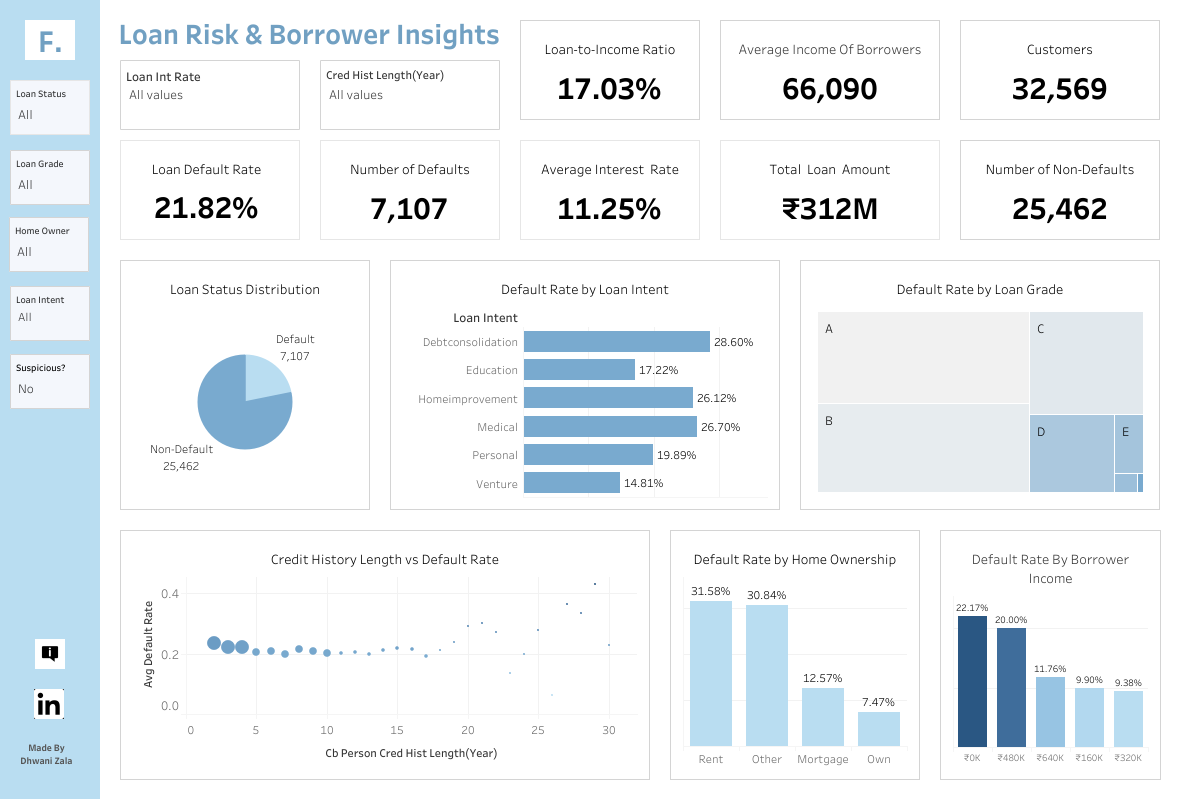

This screenshot's page, from the dashboard's own definition file:
{"tool":"tableau","page":{"name":"Dashboard 1","canvas":[1000,1000],"units":"permille","ordinal":0},"visuals":[{"type":"text","box":[96.7,15,327.5,51.2]},{"type":"worksheet","title":"kpi 8","mark":"Automatic","box":[433.3,25,150,125]},{"type":"worksheet","title":"kpi 7","mark":"Automatic","box":[600,25,183.3,125]},{"type":"worksheet","title":"kpi 6","mark":"Automatic","box":[800,25,166.7,125]},{"type":"text","box":[22.5,27.5,39.2,45]},{"type":"filter","title":"v.barchart1","param":"[federated.1jaehnx16knkhq1a8c6p51dfle09].[none:loan_int_rate:qk]","box":[100,75,150,87.5]},{"type":"filter","title":"Scatter","param":"[federated.1jaehnx16knkhq1a8c6p51dfle09].[none:cb_person_cred_hist_length(year):","box":[266.7,75,150,87.5]},{"type":"filter","title":"Pie Chart","param":"[federated.1jaehnx16knkhq1a8c6p51dfle09].[none:Calculation_840484293418377216:nk","box":[8.3,100,66.7,68.8]},{"type":"worksheet","title":"kpi 1","mark":"Automatic","box":[100,175,150,125]},{"type":"worksheet","title":"kpi 2","mark":"Automatic","box":[266.7,175,150,125]},{"type":"worksheet","title":"kpi 3","mark":"Automatic","box":[433.3,175,150,125]},{"type":"worksheet","title":"kpi 4","mark":"Automatic","box":[600,175,183.3,125]},{"type":"worksheet","title":"kpi 5","mark":"Automatic","box":[800,175,166.7,125]},{"type":"filter","title":"treemap","param":"[federated.1jaehnx16knkhq1a8c6p51dfle09].[none:loan_grade:nk]","box":[8.3,187.5,66.7,68.8]},{"type":"filter","title":"v.barchart","param":"[federated.1jaehnx16knkhq1a8c6p51dfle09].[none:person_home_ownership:nk]","box":[7.5,271.2,66.7,68.8]},{"type":"worksheet","title":"Pie Chart","mark":"Pie","box":[100,325,208.3,312.5]},{"type":"worksheet","title":"H. Bar Chart","mark":"Automatic","rows":["loan_intent"],"cols":["Calculation_786159622155628544"],"box":[325,325,325,312.5]},{"type":"worksheet","title":"treemap","mark":"Automatic","box":[666.7,325,300,312.5]},{"type":"filter","title":"H. Bar Chart","param":"[federated.1jaehnx16knkhq1a8c6p51dfle09].[none:loan_intent:nk]","box":[8.3,357.5,66.7,68.8]},{"type":"filter","title":"v.barchart1","param":"[federated.1jaehnx16knkhq1a8c6p51dfle09].[none:is_loan_amount_suspicious:nk]","box":[8.3,442.5,66.7,68.8]},{"type":"worksheet","title":"Scatter","mark":"Circle","cols":["cb_person_cred_hist_length(year)"],"box":[100,662.5,441.7,312.5]},{"type":"worksheet","title":"v.barchart","mark":"Automatic","rows":["Calculation_786159622155628544"],"cols":["person_home_ownership"],"box":[558.3,662.5,208.3,312.5]},{"type":"worksheet","title":"v.barchart1","mark":"Automatic","rows":["Calculation_786159622155628544"],"cols":["Person Income (bin)"],"box":[783.3,662.5,184.2,312.5]},{"type":"image","param":"Image/images (1).png","box":[29.2,797.5,25,41.2]},{"type":"image","param":"Image/download (1).png","box":[29.2,861.2,27.5,37.5]},{"type":"text","box":[7.5,922.5,62.5,38.8]}]}

Visuals, with their boxes on the dashboard's canvas, which has no fixed pixel size, in thousandths of its width and height (x1, y1, x2, y2). These are canvas units, not pixel positions in the 1199x799 screenshot, which may show the page scaled, cropped or inside an application window:
text: {"left": 97, "top": 15, "right": 424, "bottom": 66}
"kpi 8" worksheet: {"left": 433, "top": 25, "right": 583, "bottom": 150}
"kpi 7" worksheet: {"left": 600, "top": 25, "right": 783, "bottom": 150}
"kpi 6" worksheet: {"left": 800, "top": 25, "right": 967, "bottom": 150}
text: {"left": 22, "top": 28, "right": 62, "bottom": 72}
"v.barchart1" filter: {"left": 100, "top": 75, "right": 250, "bottom": 162}
"Scatter" filter: {"left": 267, "top": 75, "right": 417, "bottom": 162}
"Pie Chart" filter: {"left": 8, "top": 100, "right": 75, "bottom": 169}
"kpi 1" worksheet: {"left": 100, "top": 175, "right": 250, "bottom": 300}
"kpi 2" worksheet: {"left": 267, "top": 175, "right": 417, "bottom": 300}
"kpi 3" worksheet: {"left": 433, "top": 175, "right": 583, "bottom": 300}
"kpi 4" worksheet: {"left": 600, "top": 175, "right": 783, "bottom": 300}
"kpi 5" worksheet: {"left": 800, "top": 175, "right": 967, "bottom": 300}
"treemap" filter: {"left": 8, "top": 188, "right": 75, "bottom": 256}
"v.barchart" filter: {"left": 8, "top": 271, "right": 74, "bottom": 340}
"Pie Chart" worksheet (Pie marks): {"left": 100, "top": 325, "right": 308, "bottom": 638}
"H. Bar Chart" worksheet: {"left": 325, "top": 325, "right": 650, "bottom": 638}
"treemap" worksheet: {"left": 667, "top": 325, "right": 967, "bottom": 638}
"H. Bar Chart" filter: {"left": 8, "top": 358, "right": 75, "bottom": 426}
"v.barchart1" filter: {"left": 8, "top": 442, "right": 75, "bottom": 511}
"Scatter" worksheet (Circle marks): {"left": 100, "top": 662, "right": 542, "bottom": 975}
"v.barchart" worksheet: {"left": 558, "top": 662, "right": 767, "bottom": 975}
"v.barchart1" worksheet: {"left": 783, "top": 662, "right": 968, "bottom": 975}
image: {"left": 29, "top": 798, "right": 54, "bottom": 839}
image: {"left": 29, "top": 861, "right": 57, "bottom": 899}
text: {"left": 8, "top": 922, "right": 70, "bottom": 961}
